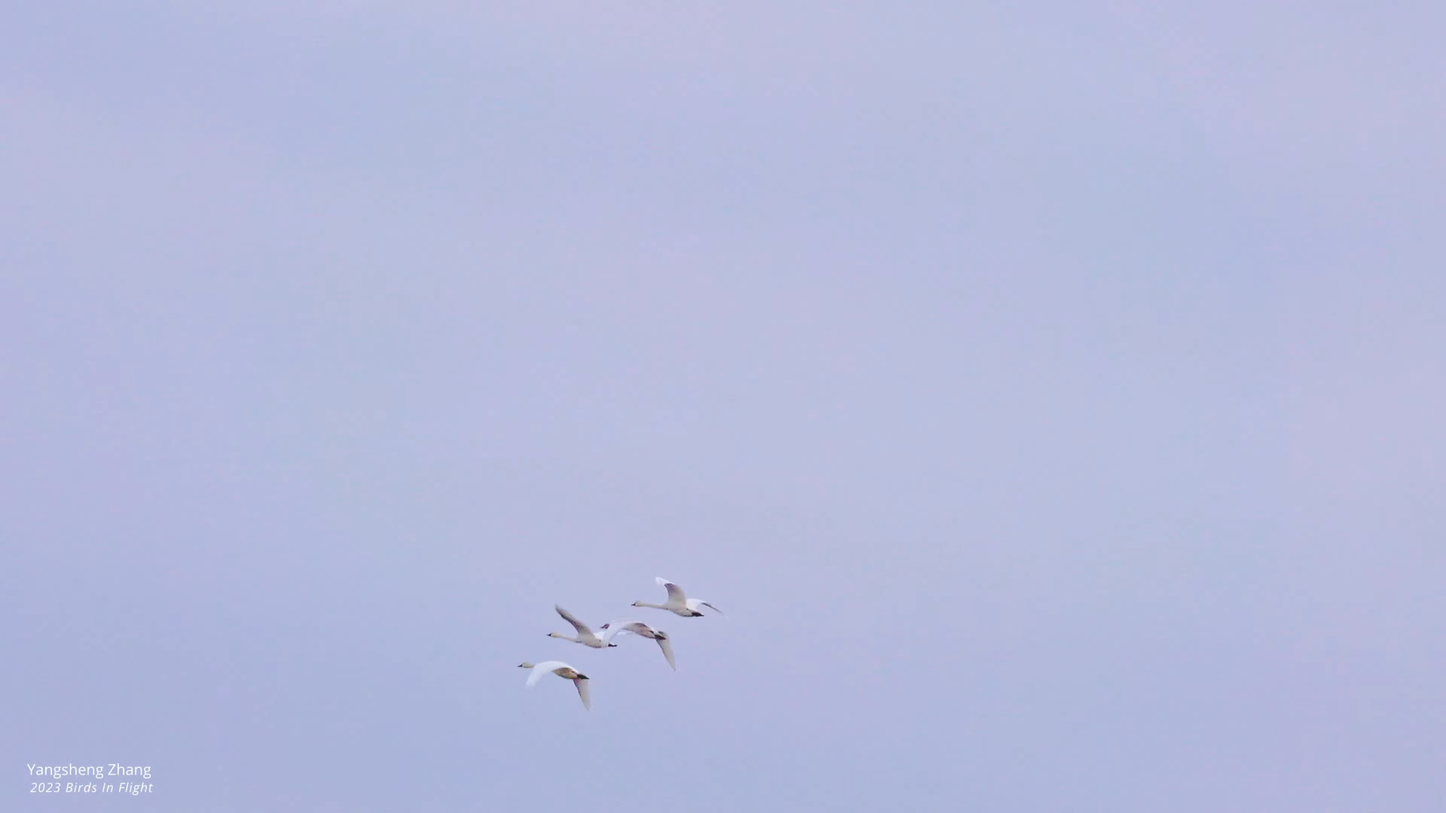not_drone: (629, 567, 757, 625), (507, 653, 606, 707), (614, 609, 682, 678), (541, 593, 620, 650)
